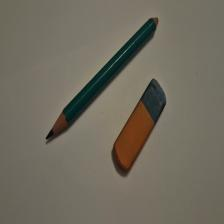eraser: (114, 78, 167, 173)
pencil: (47, 18, 160, 141)
